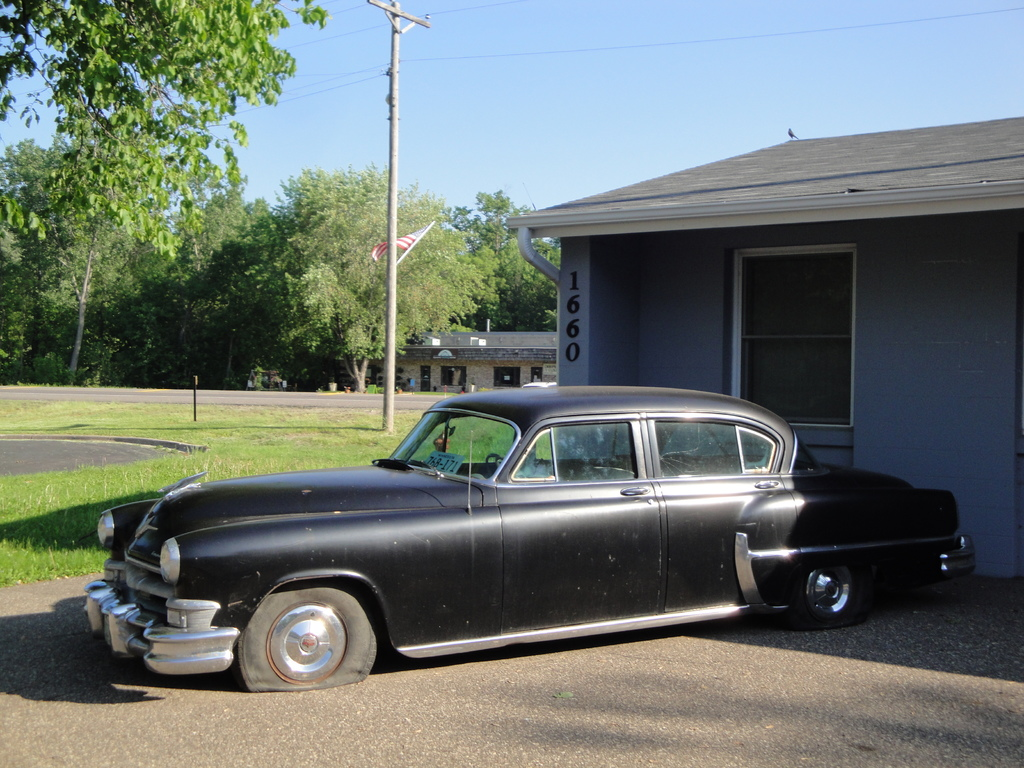Car: (75, 394, 968, 685)
